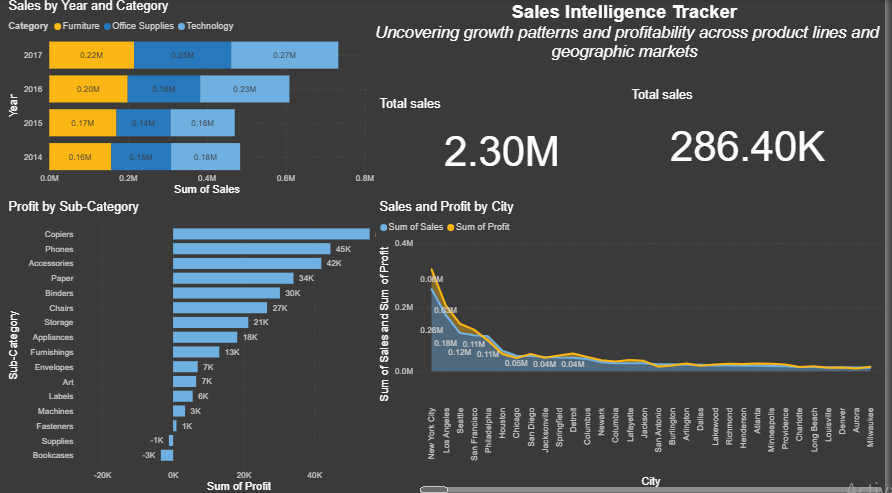

What the dashboard file says about the page in this screenshot:
{"tool":"powerbi","page":{"name":"Page 1","canvas":[1280,720],"ordinal":0},"visuals":[{"type":"clusteredBarChart","title":"Profit by Sub-Category","fields":{"Category":["Superstore.Sub-Category"],"Y":["Sum(Superstore.Profit)"]},"box":[7.3,290.9,592.2,429.1],"z":1000},{"type":"stackedAreaChart","title":"Sales and Profit by City","fields":{"Category":["Superstore.City"],"Y":["Sum(Superstore.Sales)","Sum(Superstore.Profit)"]},"box":[544,290.3,736,429.7],"z":2000},{"type":"card","title":"Total sales","fields":{"Values":["Sum(Superstore.Sales)"]},"box":[544,141.7,363.4,128],"z":3000},{"type":"card","title":"Total sales","fields":{"Values":["Sum(Superstore.Profit)"]},"box":[907.4,128,345.1,141.7],"z":4000},{"type":"barChart","title":"Sales by Year and Category","fields":{"Y":["Sum(Superstore.Sales)"],"Category":["Superstore.Order Date.Variation.Date Hierarchy.Year","Superstore.Order Date.Variation.Date Hierarchy.Month"],"Series":["Superstore.Category"]},"box":[6.9,0,538.9,290.2],"z":4001},{"type":"textbox","box":[526.3,0,753.3,128.7],"z":4002}]}

Visuals, with their boxes in screenshot pixels (x1, y1, x2, y2), scaled from the page's 1280x720 canvas onto the 892x493 screenshot:
"Profit by Sub-Category" clusteredBarChart: (x1=5, y1=199, x2=418, y2=492)
"Sales and Profit by City" stackedAreaChart: (x1=379, y1=199, x2=891, y2=492)
"Total sales" card: (x1=379, y1=97, x2=632, y2=185)
"Total sales" card: (x1=632, y1=88, x2=873, y2=185)
"Sales by Year and Category" barChart: (x1=5, y1=0, x2=380, y2=199)
textbox: (x1=367, y1=0, x2=891, y2=88)
